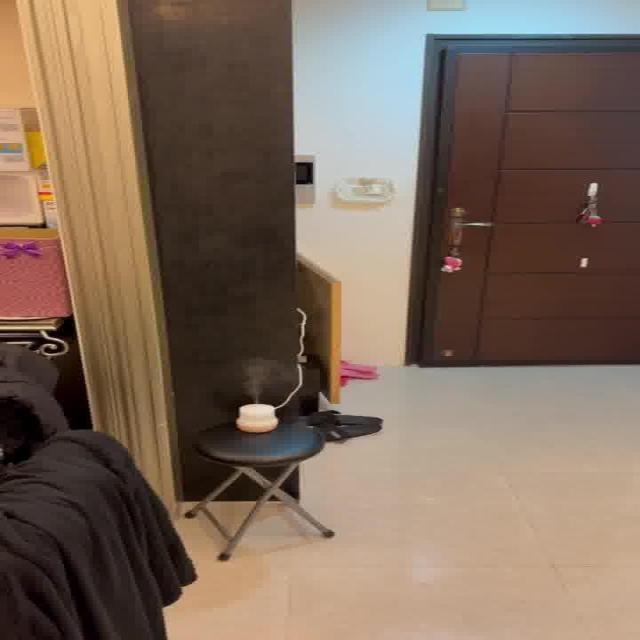fire: (233, 358, 283, 400)
